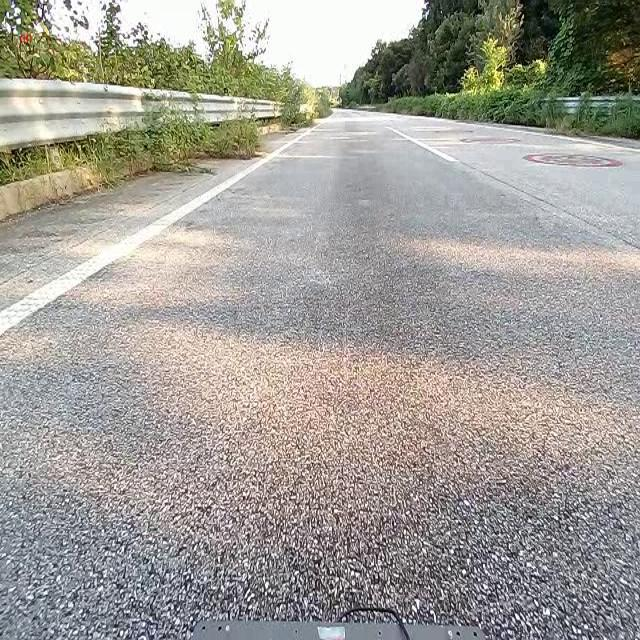Lane: (0, 118, 322, 336), (0, 125, 317, 335), (375, 107, 477, 175), (389, 127, 458, 161)
